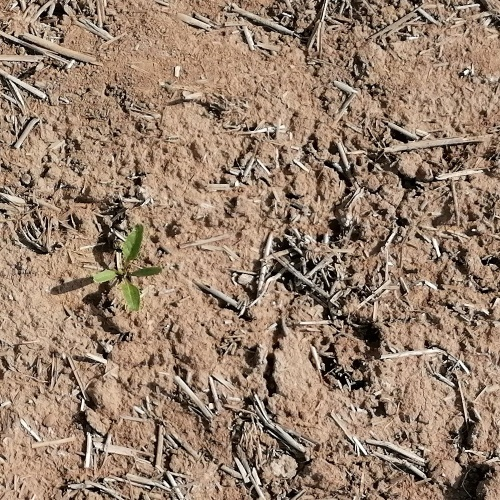beet: (91, 223, 163, 314)
